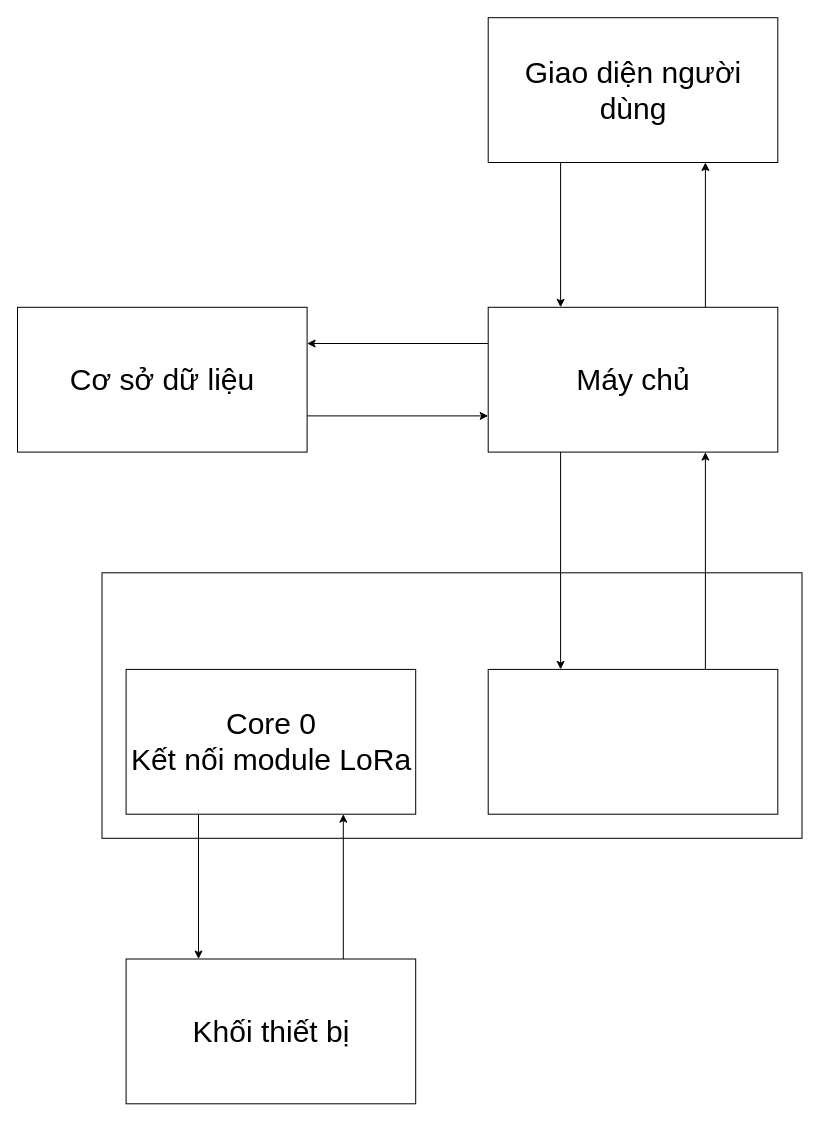
Some shapes in this 820 by 1122 pixel diagram are drawn without their labels. Here are the shapes that lost their labels. From the top down, the box of each, then its label:
(101, 572, 802, 838): ESP32 Cổng giao tiếp
(487, 668, 778, 814): Core 1 Gửi, nhận, cập nhật dữ liệu máy chủ
